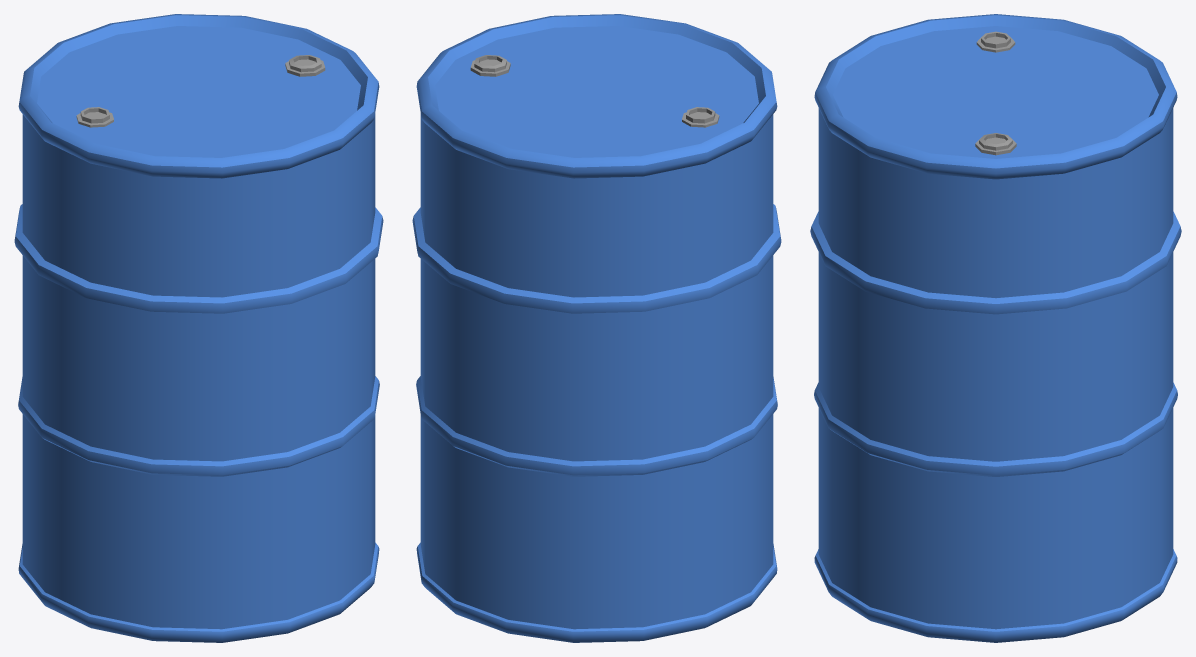
Rendered from OilBarrel.fbx.
3 views of the same model, side by side, from view 1: azimuth 30°, elevation 25°; view 2: azimuth 150°, elevation 25°; view 3: azimuth 270°, elevation 25° (orthographic).
Visible parts, largest first — view 1: OilBarrel; view 2: OilBarrel; view 3: OilBarrel.
Boxes of the visible parts, x1,y1,x2,y2 form: OilBarrel: (14, 14, 383, 642); OilBarrel: (412, 14, 781, 642); OilBarrel: (810, 14, 1181, 642).
Size of the model in its own units: 149 by 213 by 149.
